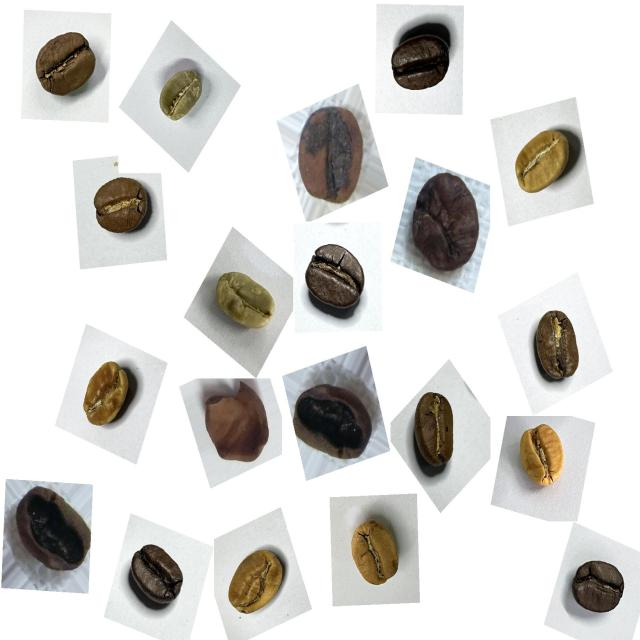bad: (401, 161, 492, 285), (289, 95, 379, 214), (4, 479, 101, 588), (287, 367, 380, 471), (192, 375, 274, 476)
dark: (380, 15, 460, 110), (298, 232, 377, 328), (124, 533, 195, 621), (563, 546, 634, 628)
green: (207, 263, 284, 346), (148, 59, 213, 136)
light: (503, 114, 581, 207), (222, 538, 297, 629), (337, 509, 410, 602), (74, 350, 146, 438), (512, 416, 580, 499)
medium: (24, 20, 107, 113), (402, 382, 470, 481), (523, 301, 594, 394), (84, 169, 160, 248)
